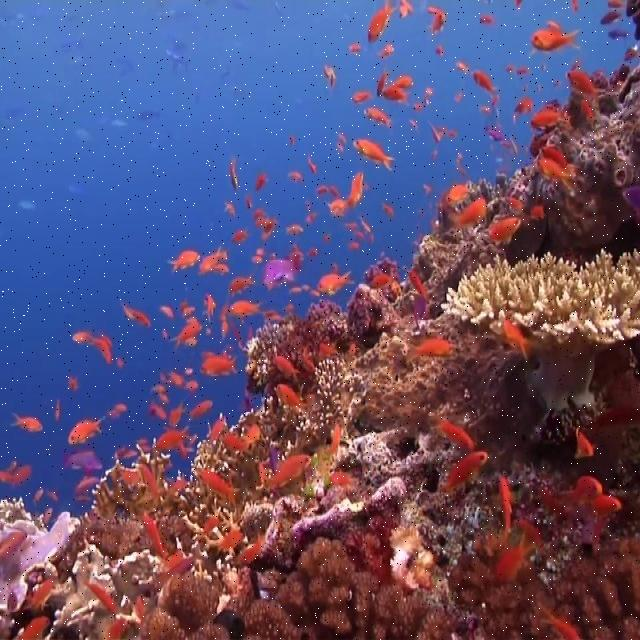fish: (212, 250, 622, 519), (346, 75, 415, 209), (79, 573, 129, 639), (148, 367, 199, 430), (478, 92, 520, 160), (441, 451, 489, 497), (495, 529, 536, 582), (64, 448, 102, 502), (263, 243, 305, 289), (537, 600, 581, 639), (195, 468, 240, 504), (244, 194, 279, 240), (271, 453, 311, 493), (559, 475, 602, 511), (351, 138, 396, 171), (514, 518, 548, 561), (536, 156, 576, 190), (367, 0, 398, 43), (566, 70, 600, 108), (450, 196, 486, 231), (314, 183, 349, 219), (143, 512, 168, 562), (530, 28, 581, 52), (538, 143, 581, 171), (440, 419, 475, 453), (343, 215, 375, 252), (408, 338, 458, 361), (274, 384, 311, 415), (497, 472, 512, 548), (238, 529, 266, 566), (530, 101, 565, 130), (120, 298, 152, 329), (112, 436, 153, 460), (67, 417, 102, 445), (488, 217, 523, 245), (504, 320, 529, 359), (25, 579, 55, 611), (316, 269, 355, 293), (168, 321, 200, 349), (219, 301, 241, 341), (0, 530, 26, 563), (88, 332, 113, 366), (167, 249, 202, 273), (200, 355, 238, 377), (199, 244, 225, 276), (157, 426, 193, 449), (0, 460, 32, 485), (274, 355, 302, 383), (227, 272, 256, 299), (471, 70, 498, 98), (19, 616, 50, 639), (10, 413, 44, 433), (216, 531, 244, 555), (410, 85, 434, 113), (445, 180, 472, 204), (229, 299, 263, 318), (174, 434, 197, 462), (362, 107, 392, 128), (382, 84, 410, 106), (428, 125, 458, 145), (408, 270, 428, 299), (575, 427, 594, 457), (241, 423, 261, 451), (195, 517, 219, 540), (188, 399, 213, 421), (376, 66, 392, 98), (290, 283, 320, 300), (201, 292, 217, 323), (179, 299, 199, 323), (206, 415, 225, 440), (230, 158, 241, 196), (428, 12, 446, 35), (367, 274, 393, 289), (513, 97, 533, 115), (222, 435, 244, 450), (136, 595, 145, 631), (398, 0, 414, 20), (319, 342, 337, 358), (224, 200, 235, 220), (72, 331, 88, 342)
reefs: (0, 63, 639, 639)
